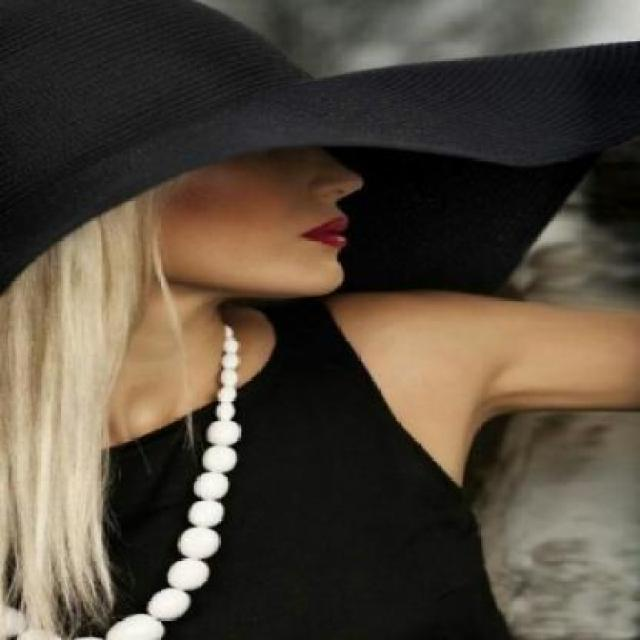hat: (2, 1, 640, 299)
